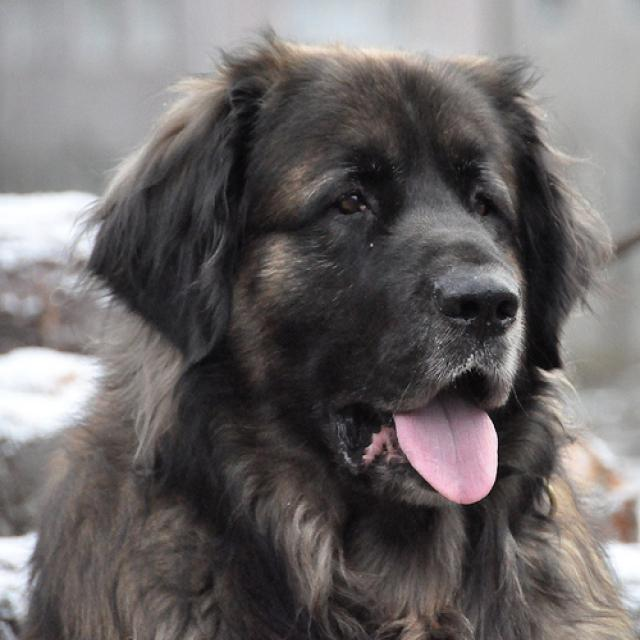dog-leonberger: (17, 27, 637, 637)
